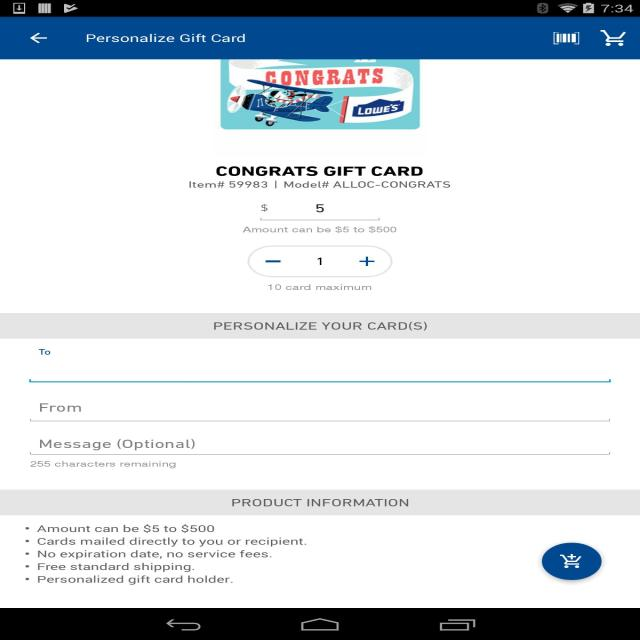button: (240, 244, 397, 277), (536, 538, 606, 584), (598, 28, 634, 50), (552, 29, 584, 47), (28, 29, 51, 46)
field: (24, 343, 616, 384), (26, 388, 614, 423), (27, 426, 616, 456), (256, 197, 383, 222)
heading: (212, 319, 432, 333), (216, 164, 424, 178), (227, 496, 417, 511), (85, 31, 252, 46)
image: (220, 58, 421, 129)
label: (34, 434, 198, 452), (34, 400, 88, 415), (32, 345, 57, 358), (258, 200, 270, 214)
text: (188, 180, 455, 191), (24, 536, 310, 546), (24, 549, 278, 560), (24, 575, 236, 586), (25, 522, 216, 534), (28, 460, 182, 471), (23, 562, 202, 571), (241, 226, 402, 236), (266, 280, 374, 294)
